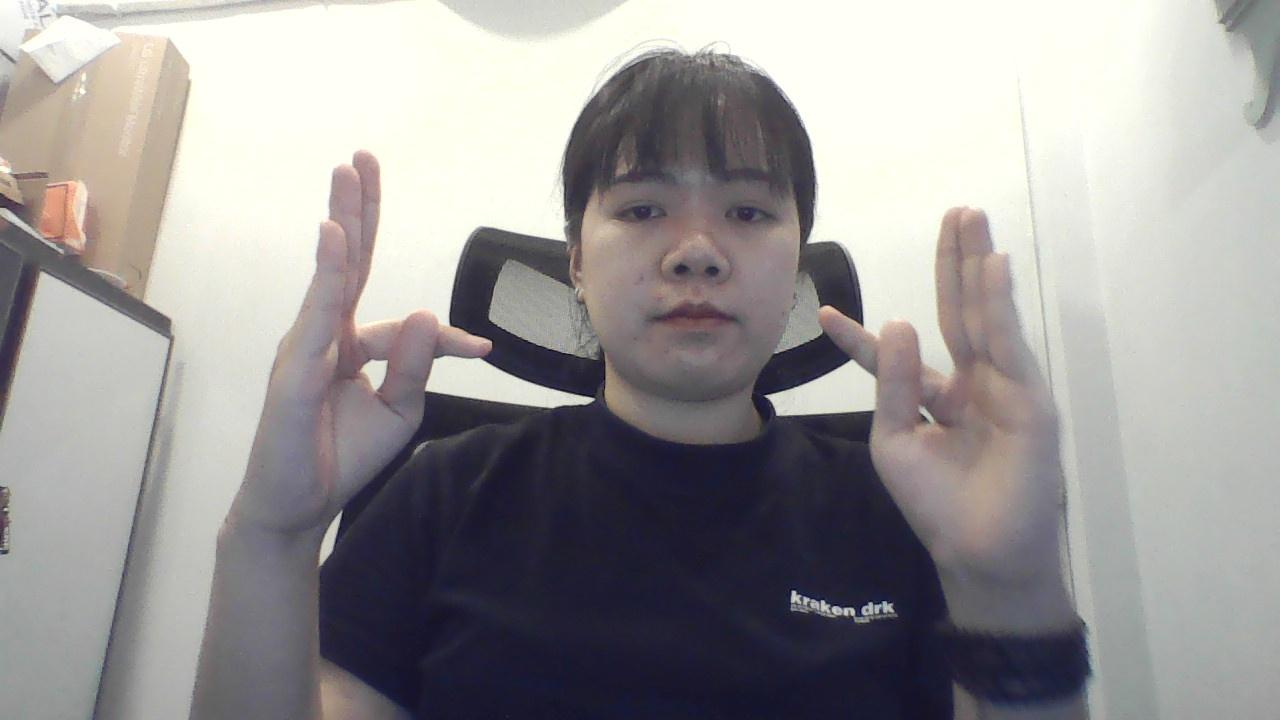T: (817, 197, 1085, 599), (259, 140, 496, 541)
